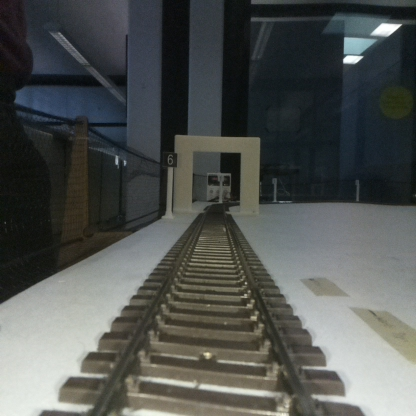black-info-6: (163, 151, 177, 218)
